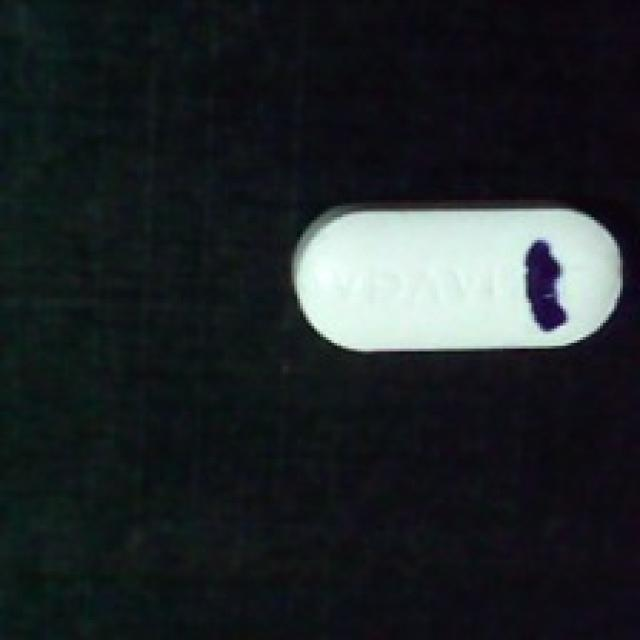defected: (286, 194, 631, 363)
